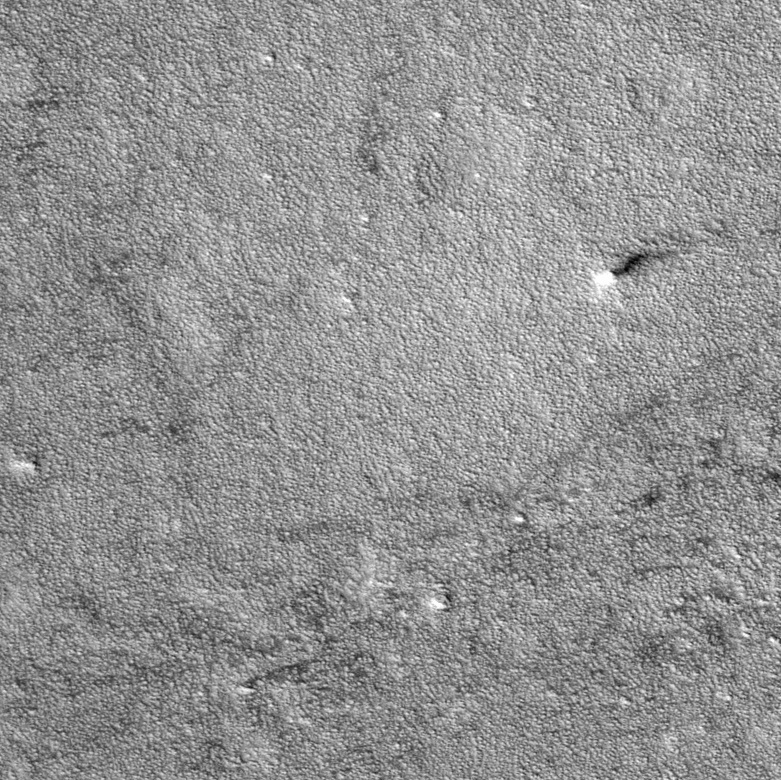dust_devil: (587, 247, 680, 293)
